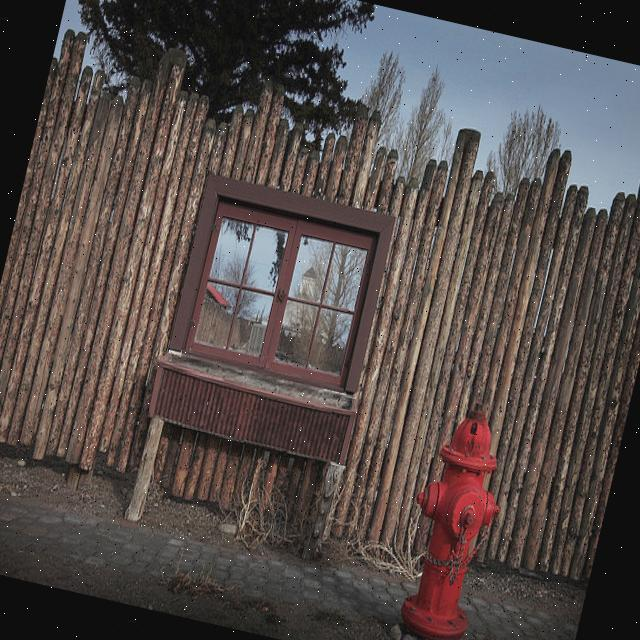fire_hydrant: (388, 391, 523, 640)
